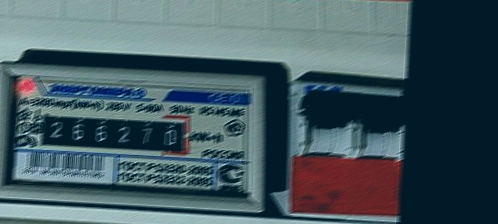0: (163, 130, 176, 148)
2: (48, 121, 62, 140), (117, 126, 129, 145)
6: (94, 126, 107, 145), (71, 124, 84, 142)
7: (140, 128, 152, 146)
screen: (30, 105, 196, 164)
